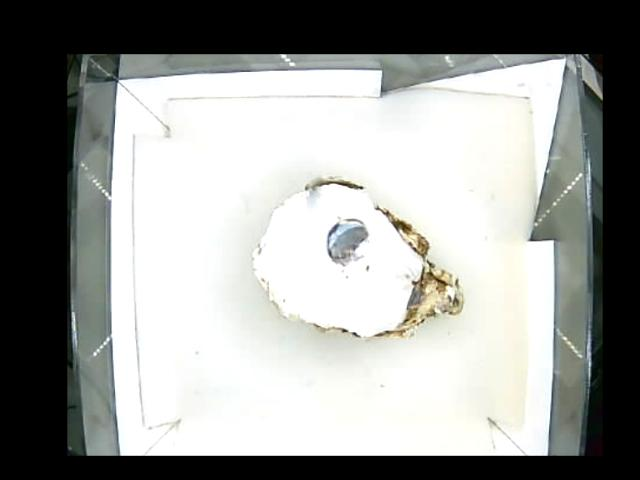Shell: (251, 175, 462, 336)
